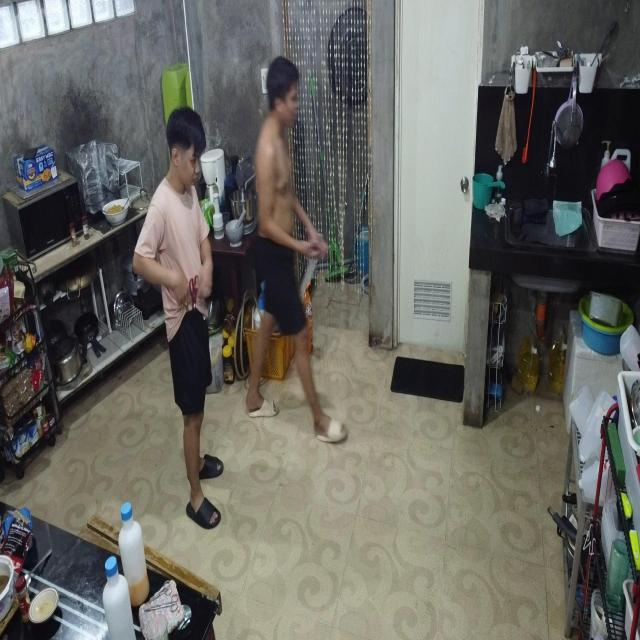scissor: (144, 596, 178, 612), (149, 580, 172, 601), (189, 276, 199, 316)
